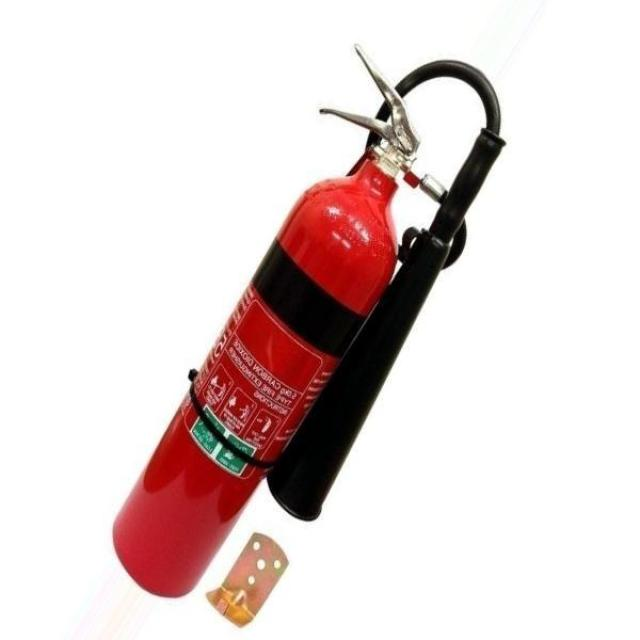fire_extinguisher: (106, 37, 512, 602)
